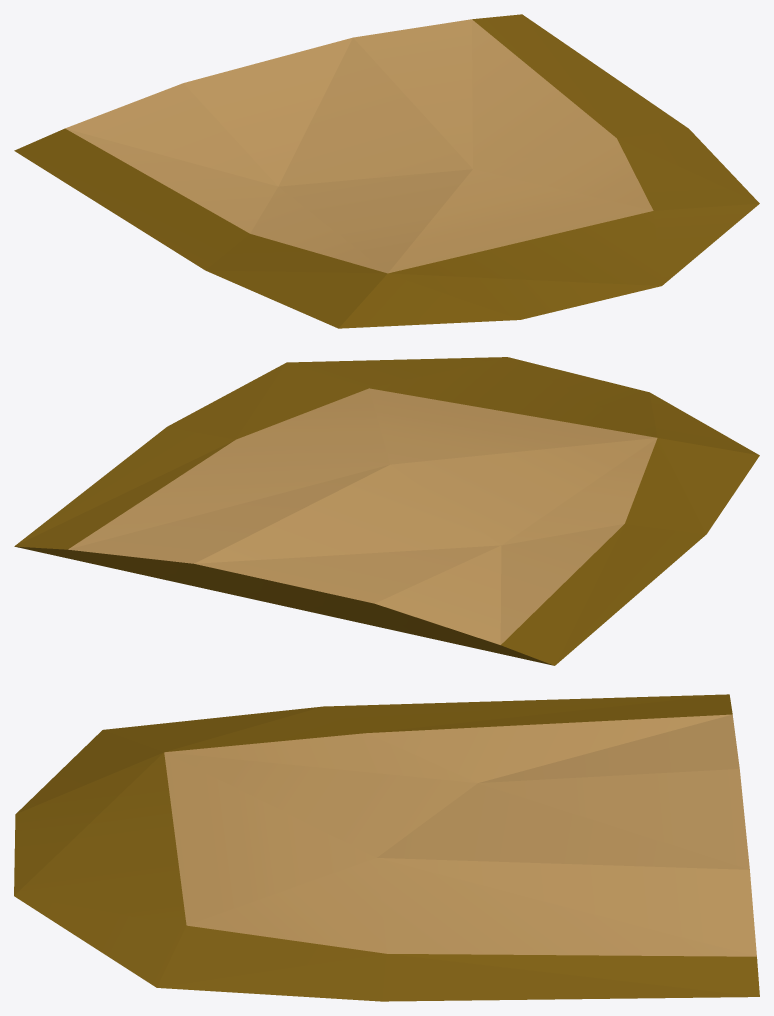
The model's file is Road_End_S.fbx.
3 renders of one model, top to bottom at view 1: azimuth 30°, elevation 25°; view 2: azimuth 150°, elevation 25°; view 3: azimuth 270°, elevation 25°, orthographic. The views are drawn at different scales.
Visible parts, largest first — view 1: Road_End_S; view 2: Road_End_S; view 3: Road_End_S.
Boxes of the visible parts, x1,y1,x2,y2 form: Road_End_S: [14, 14, 759, 328]; Road_End_S: [14, 357, 759, 665]; Road_End_S: [14, 694, 759, 1001].
Bounding box in the file's own units: 3.04 × 0.1218 × 3.12.
1 material, 1 textured.
